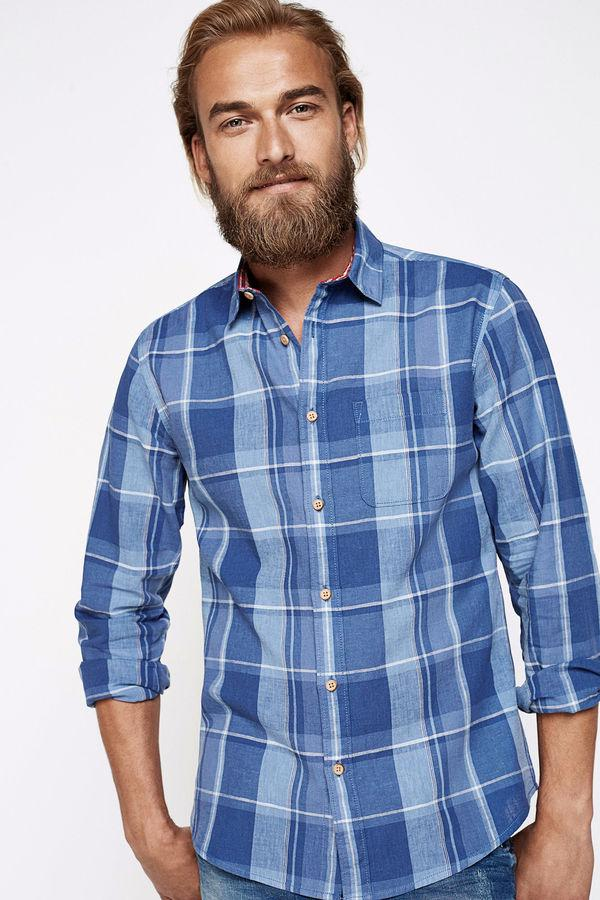teeshirt: (45, 225, 600, 874)
